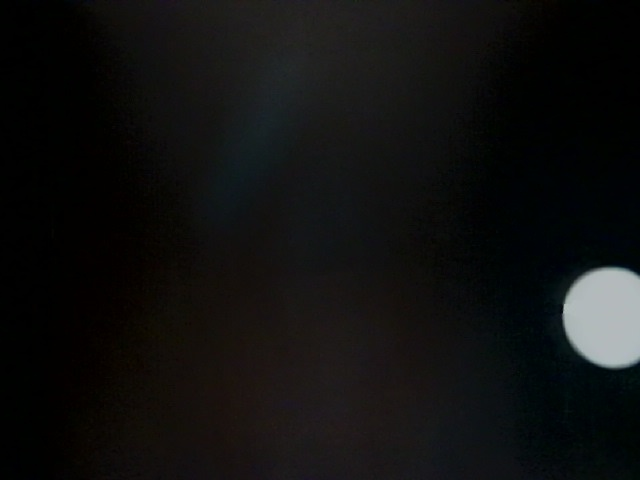KHSLJ: (142, 1, 462, 317)
